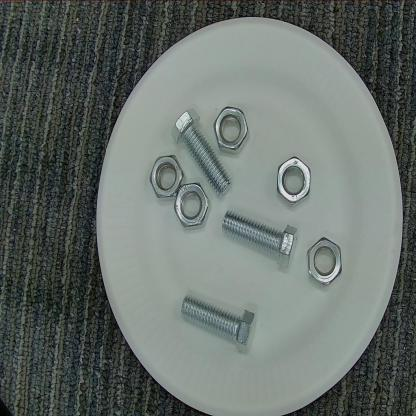FOD: (170, 107, 235, 203), (179, 291, 261, 359), (146, 154, 215, 230), (223, 206, 300, 267), (303, 231, 350, 296), (274, 153, 320, 208)
